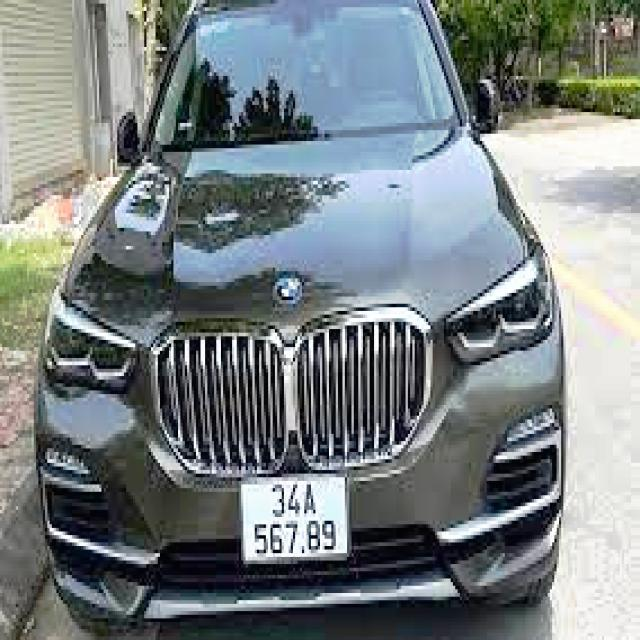license_plate: (242, 471, 348, 562)
